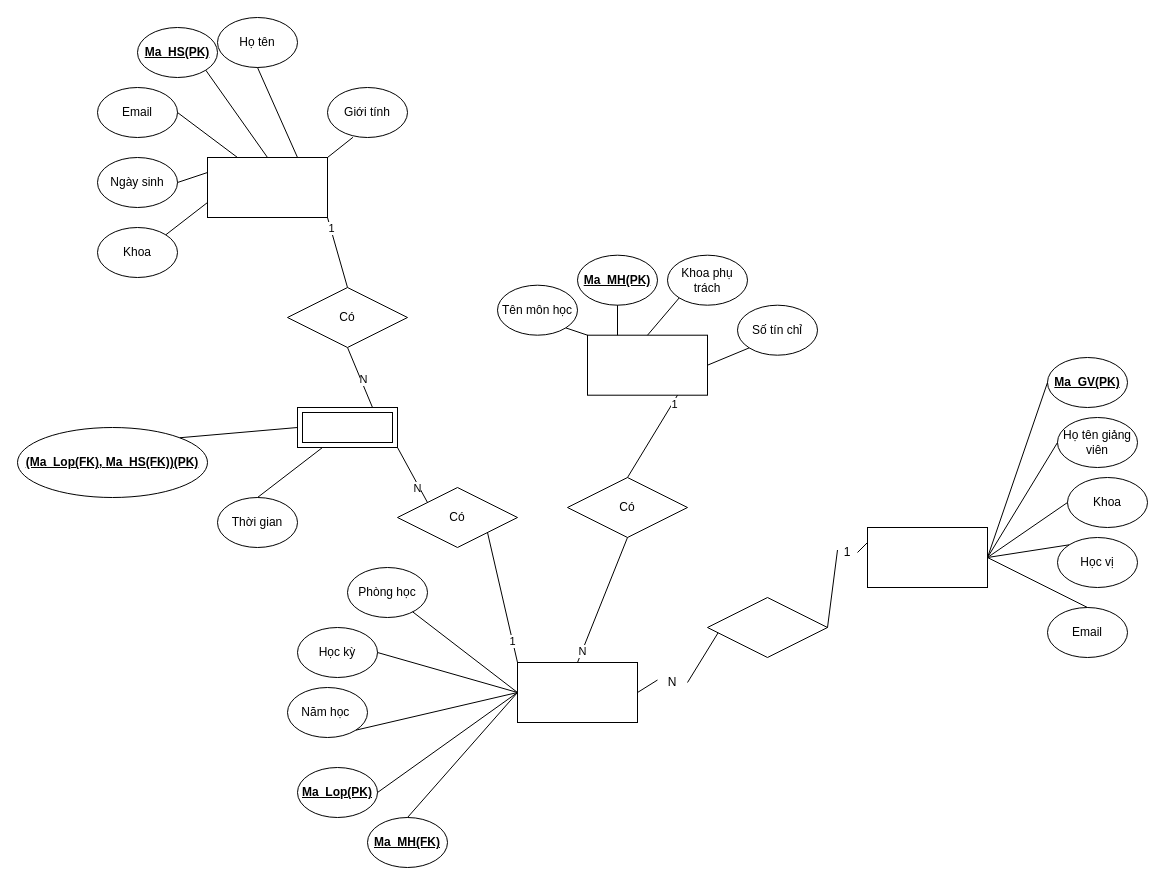
Image size: 1165x885. Some labels were removed from this diagram. The shapes that lost their labels are listed below. From the top down, each one's centre as x and y in pixels, then its label:
At [267,187]: "Học sinh".
At [647,364]: "Môn học".
At [347,427]: "Đăng ký".
At [927,557]: "Giảng viên".
At [767,627]: "Dạy".
At [577,692]: "Lớp học phần".
